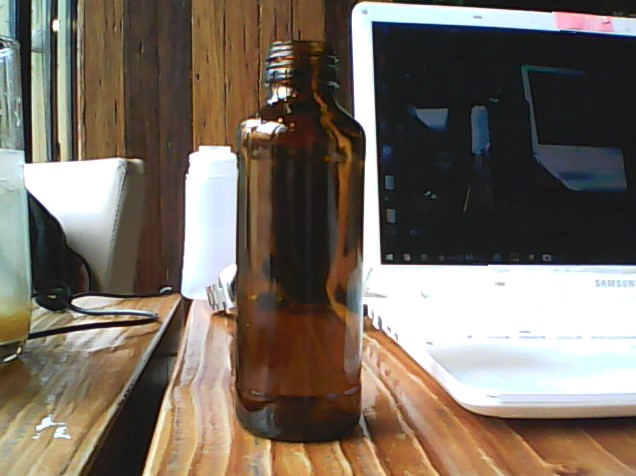Glass: (233, 35, 365, 445)
